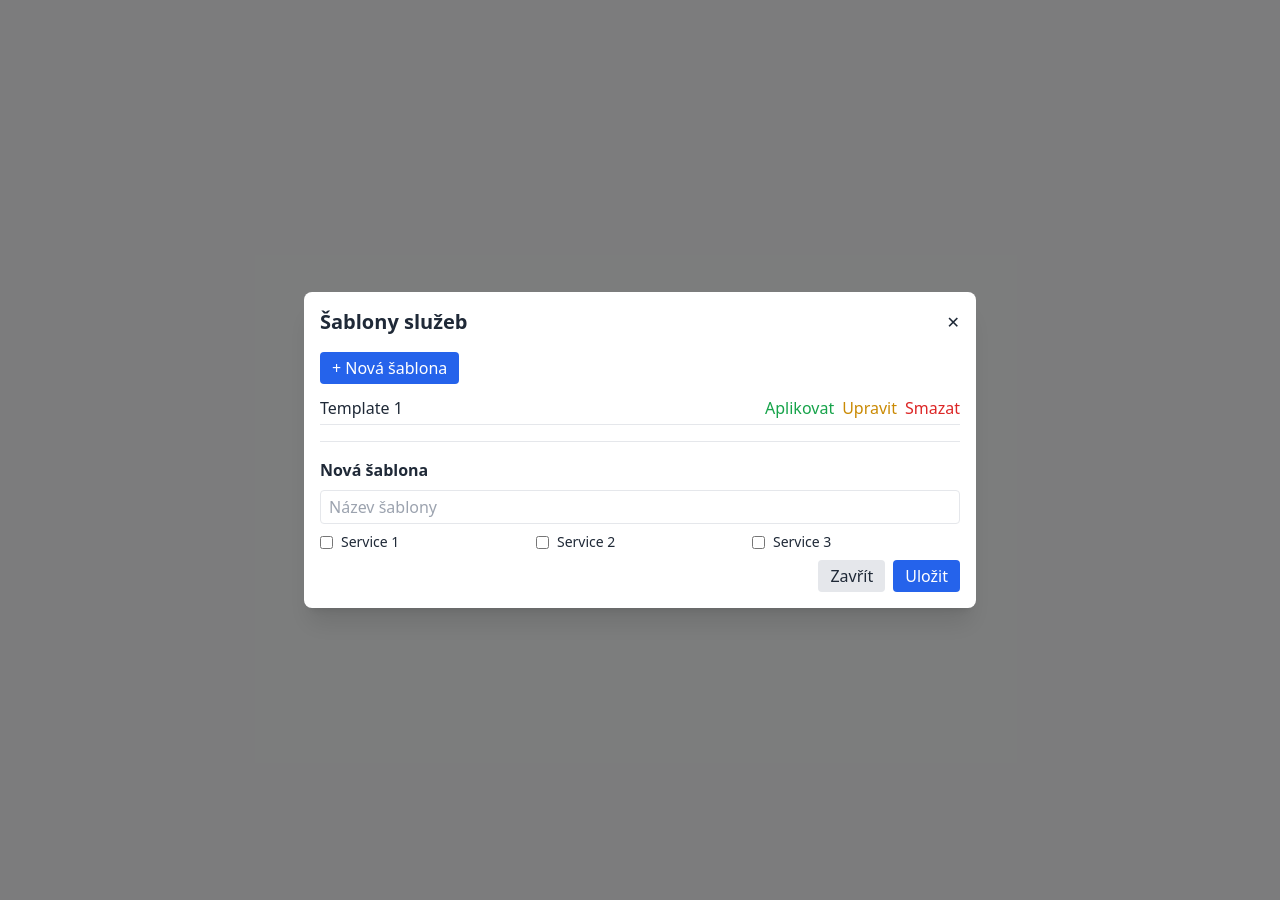
Test: TemplateManager › opens edit form when edit button is clicked
Click the button "Upravit": {"x": 870, "y": 408} [842, 396, 897, 420]
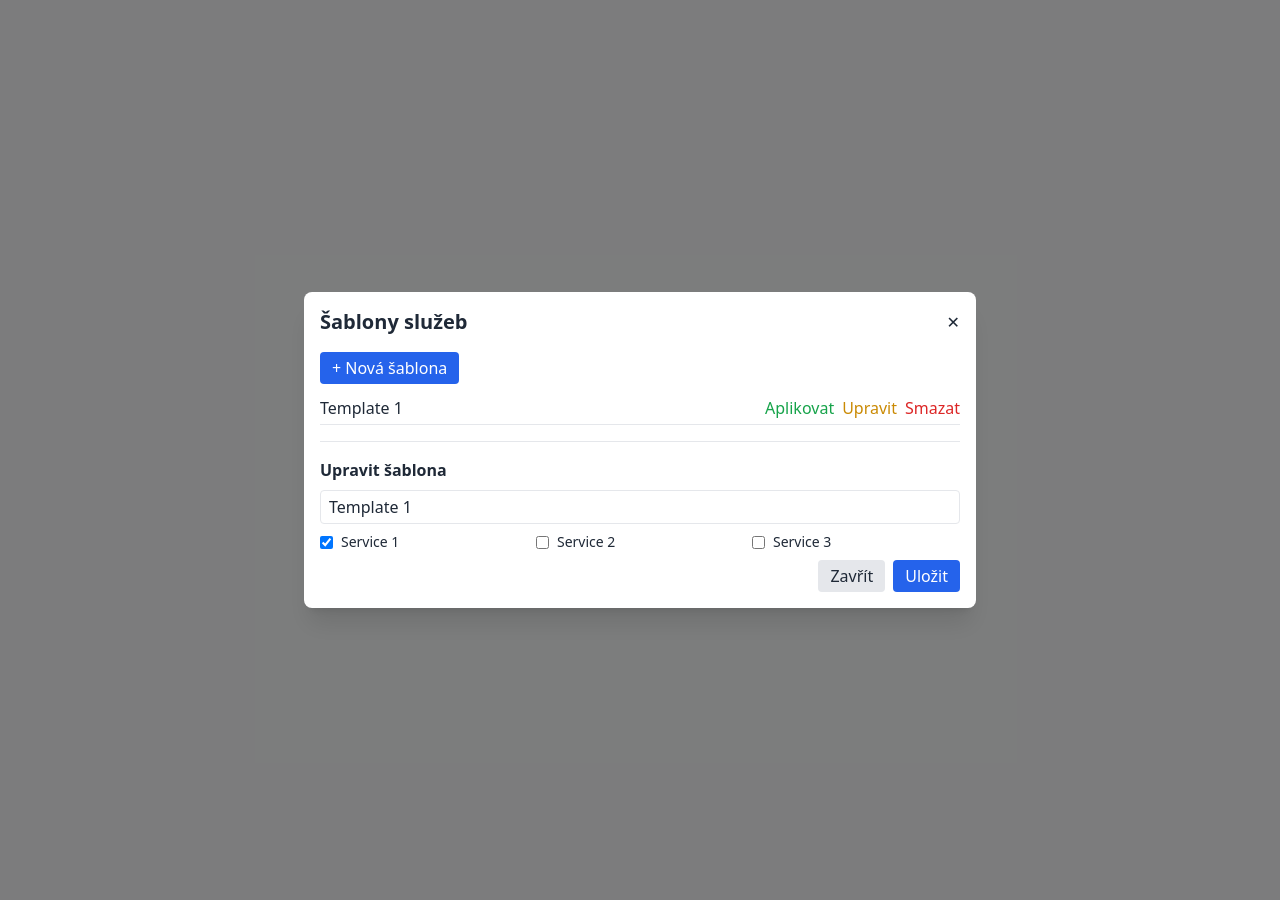
Expected: the heading "Upravit šablona" is shown, [320, 459, 447, 481]
Expected: the field showing "Template 1" is shown, [320, 490, 960, 524]
